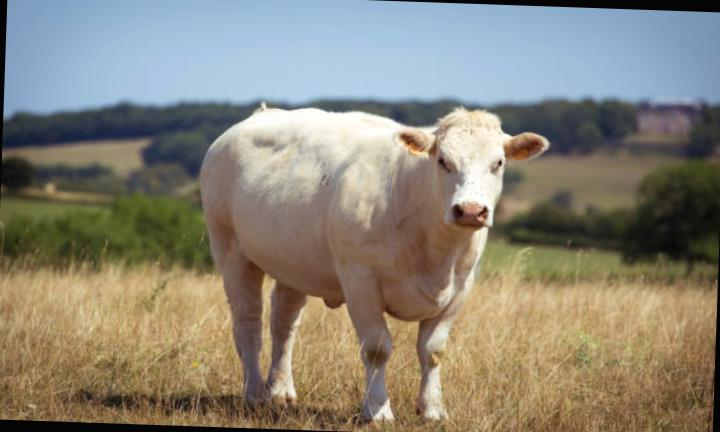Charolais: (200, 106, 548, 417)
